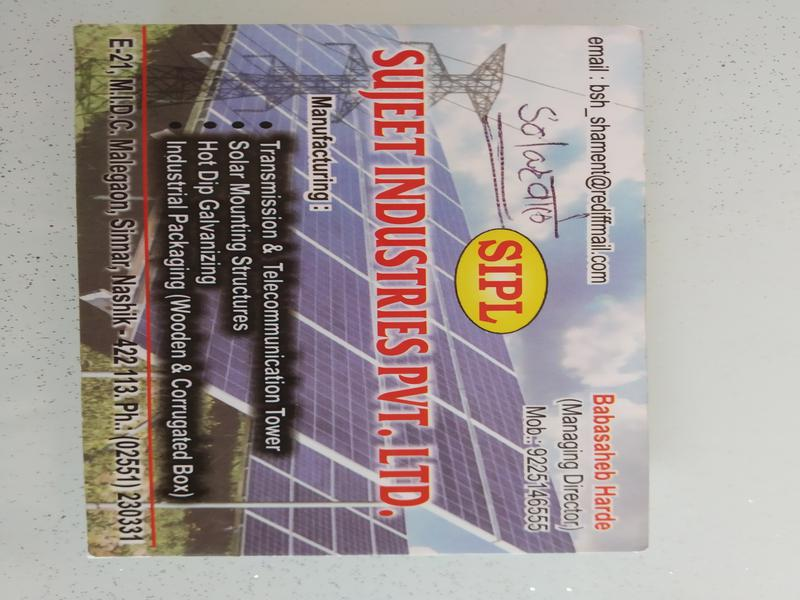card: (78, 29, 647, 549)
